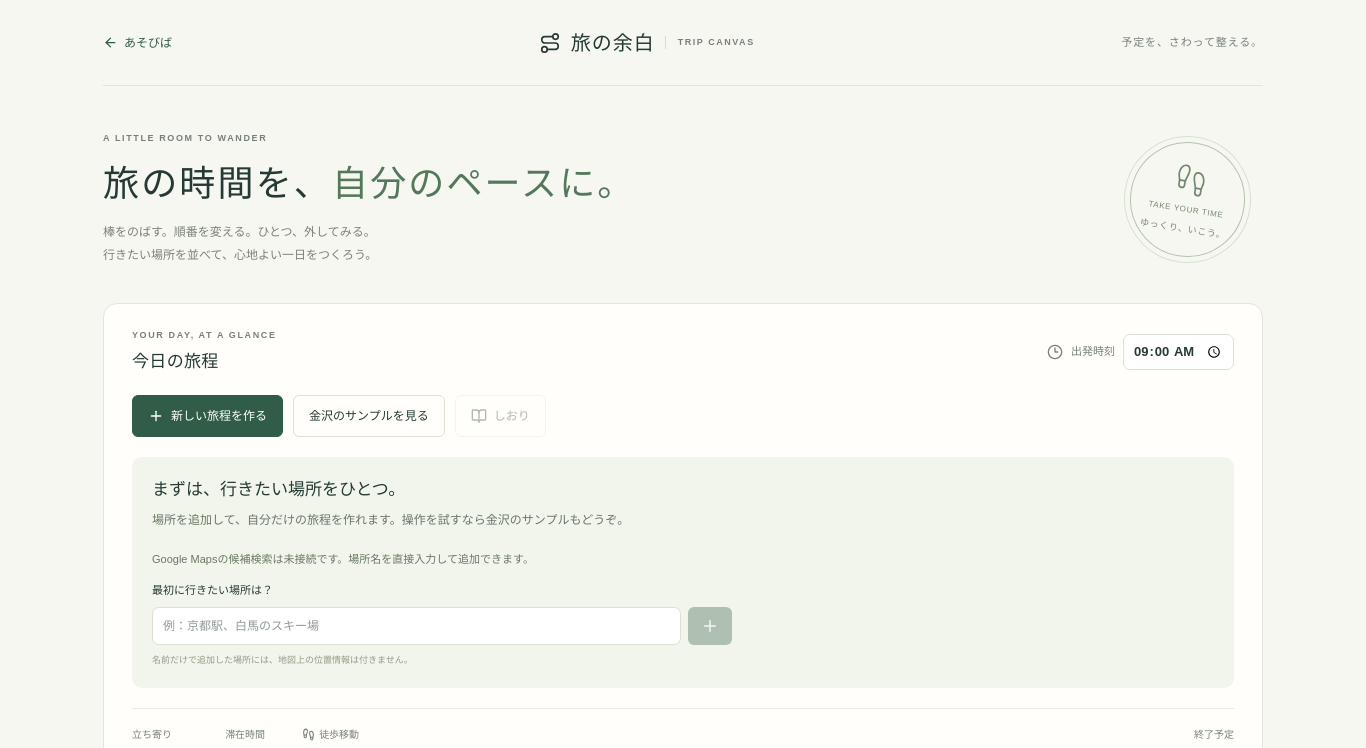
Test: 新しい旅の準備 › 初回は空の旅程で始まり、最初の場所を名前で追加できる
Expected: the heading "まずは、行きたい場所をひとつ。" is shown, [152,480,405,499]
Expected: the button named "場所を追加" is disabled, [688,607,732,645]
Type "京都駅" into the field labelled "最初に行きたい場所は？". click: (416, 626)
box: [152,607,681,645]
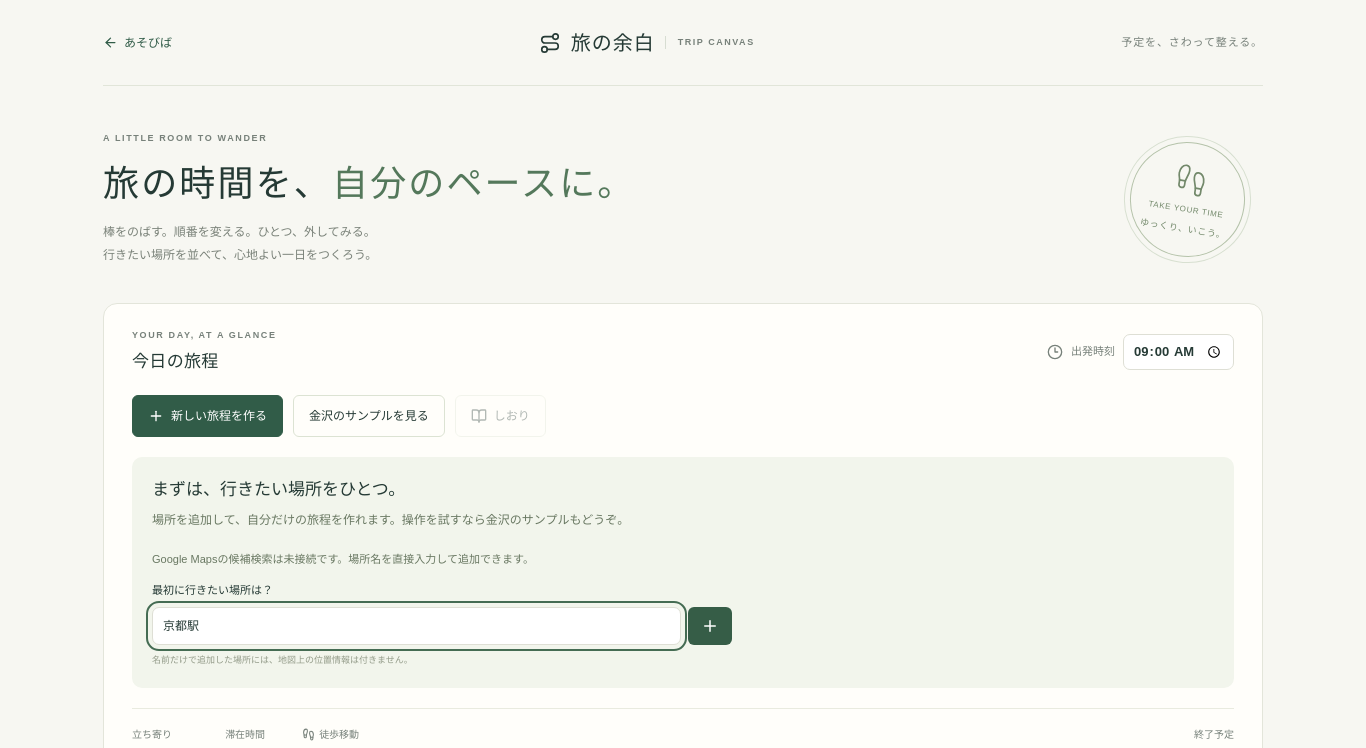
Click the button named "場所を追加". click: (710, 626)
box: [688,607,732,645]
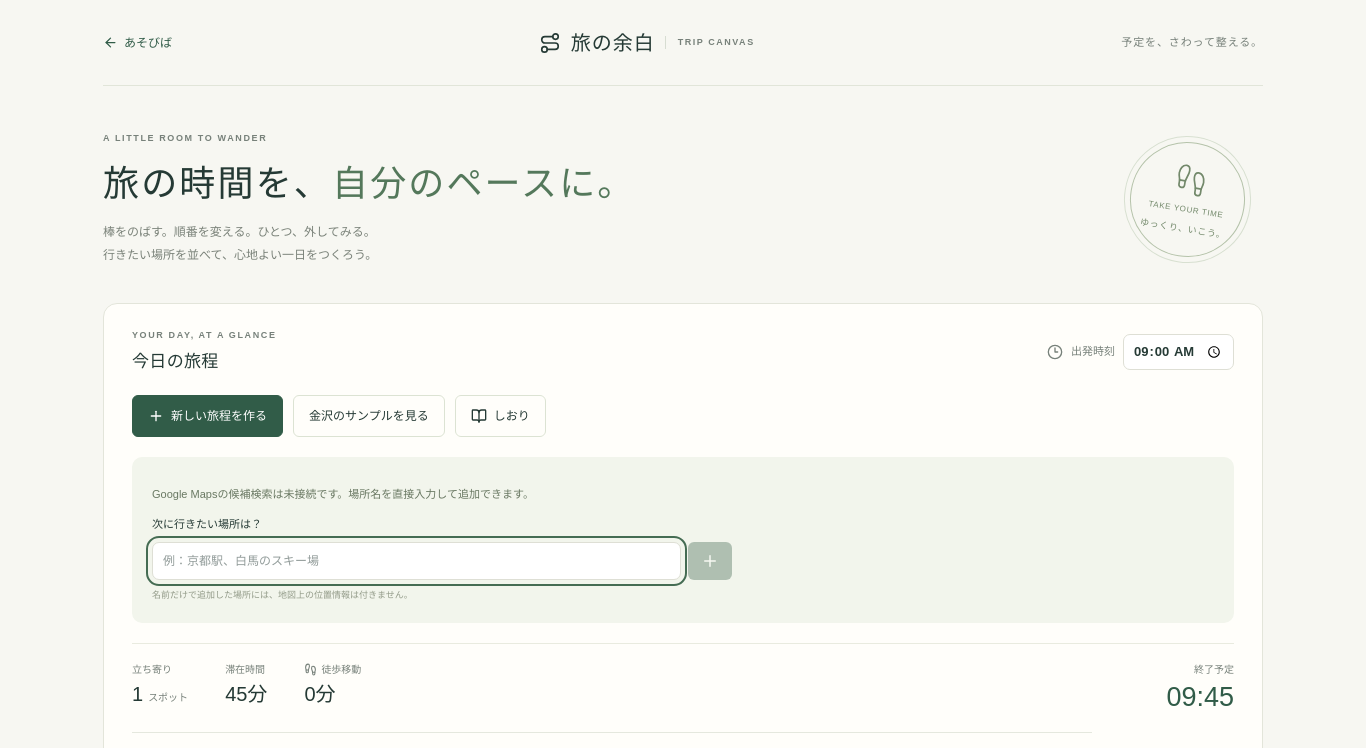
Expected: the element with test id "trip-summary" shows "09:45", [1166,682,1234,712]
Expected: the heading "まずは、行きたい場所をひとつ。" is gone
